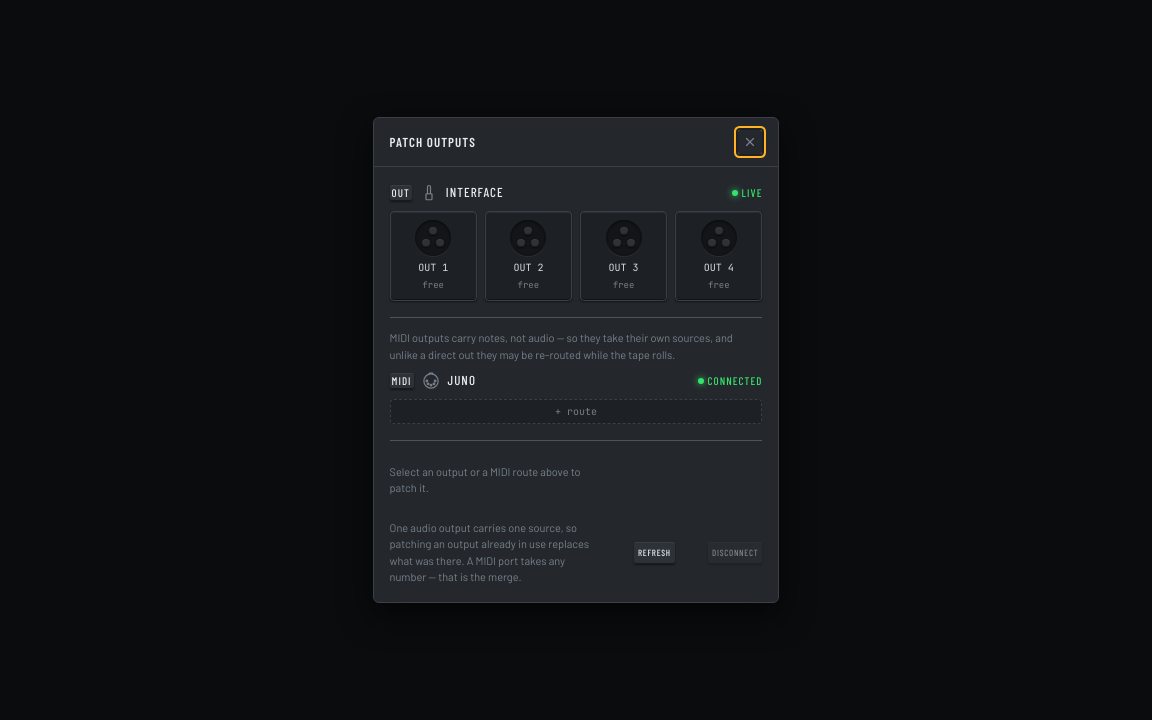
Scenario: OutputPatchbayModal › MIDI rows › shows the tap switch disabled with its reason, rather than hiding it
The width and height of the screenshot is (1152, 720).
Click the option with aria-label "Add a route to Juno".
click(576, 411)  # box left=390, top=399, right=762, bottom=424
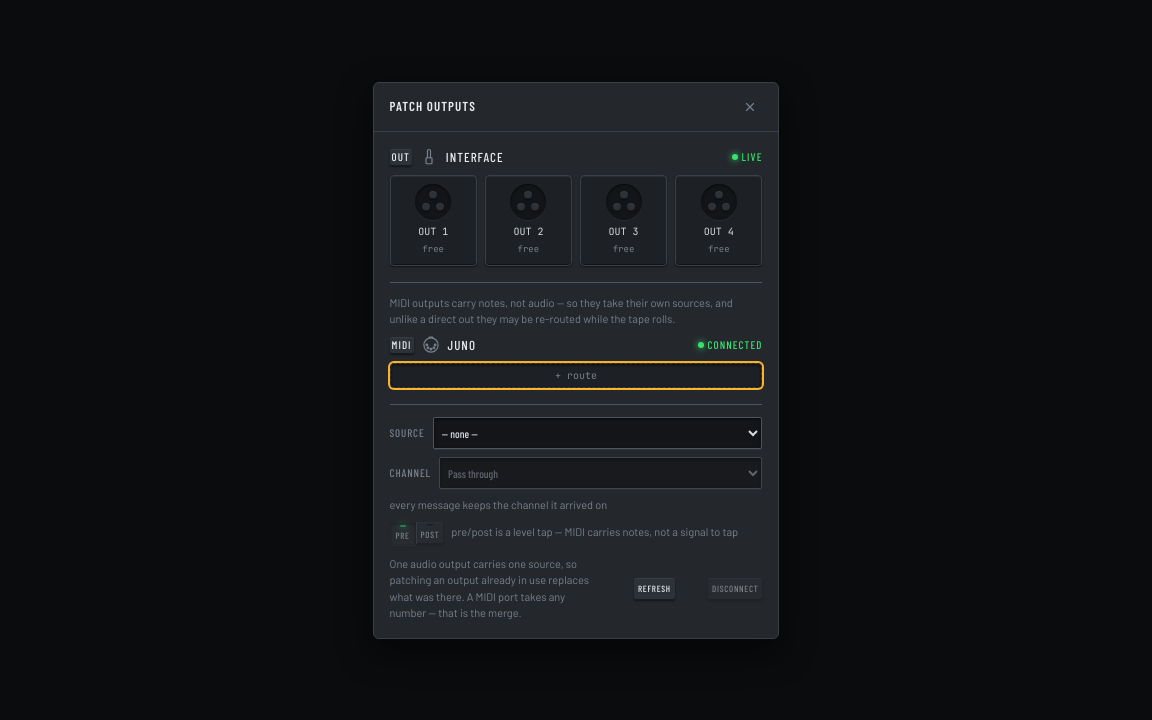
Check: the text "MIDI carries notes, not a signal to tap" is shown, box left=451, top=525, right=738, bottom=538
